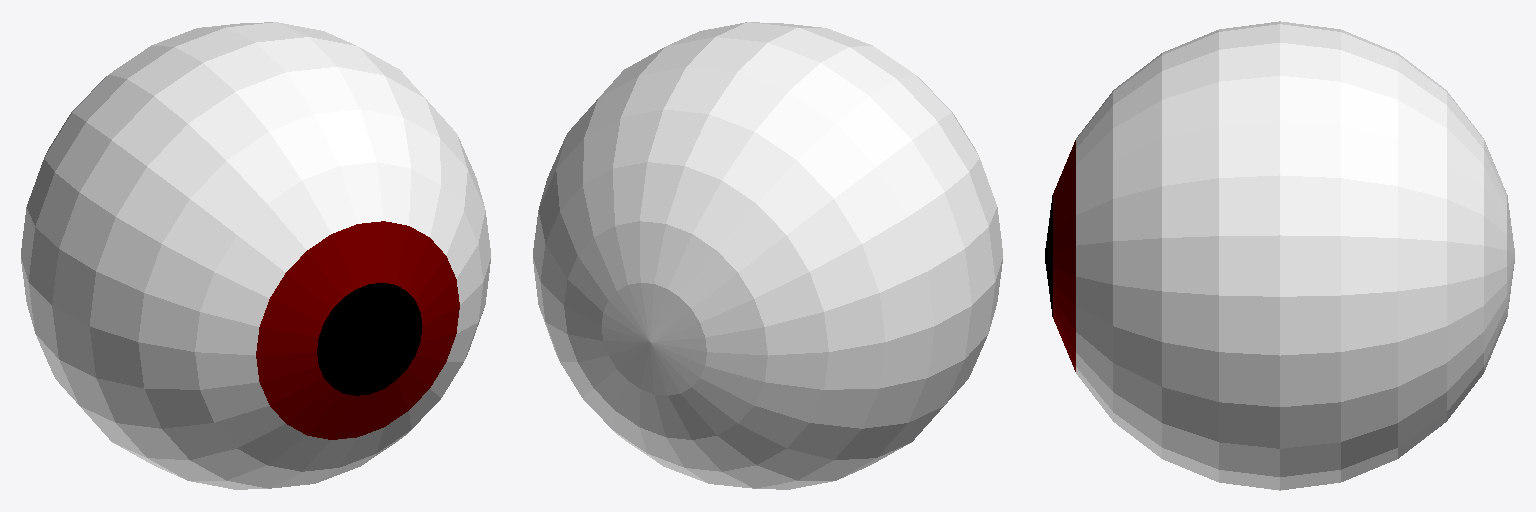
The model's file is Eyeball.obj.
3 views of the same model, side by side, from view 1: azimuth 30°, elevation 25°; view 2: azimuth 150°, elevation 25°; view 3: azimuth 270°, elevation 25° (orthographic).
Visible parts, largest first — view 1: Mesh1 eye1 Model; view 2: Mesh1 eye1 Model; view 3: Mesh1 eye1 Model.
Boxes of the visible parts, box(x1,y1,x2,y2) form: Mesh1 eye1 Model: box(21, 22, 490, 489); Mesh1 eye1 Model: box(533, 22, 1002, 489); Mesh1 eye1 Model: box(1045, 21, 1514, 490).
Size of the model in its own units: 0.9432 by 0.9432 by 0.9432.